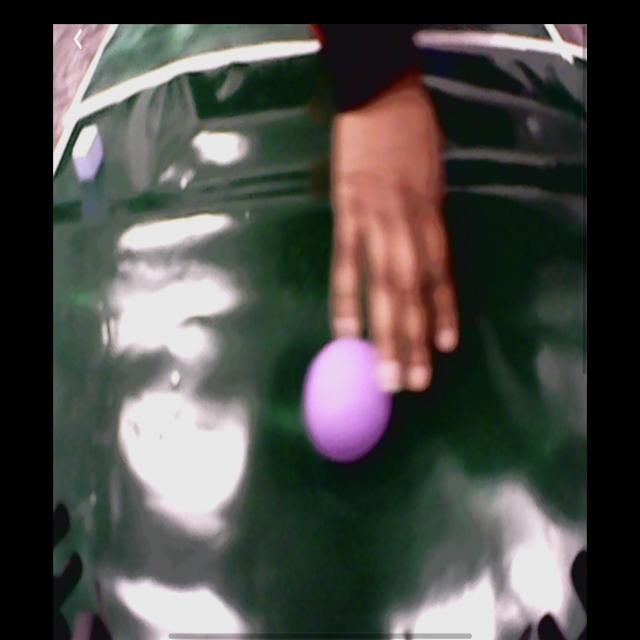ball: (298, 339, 392, 463)
